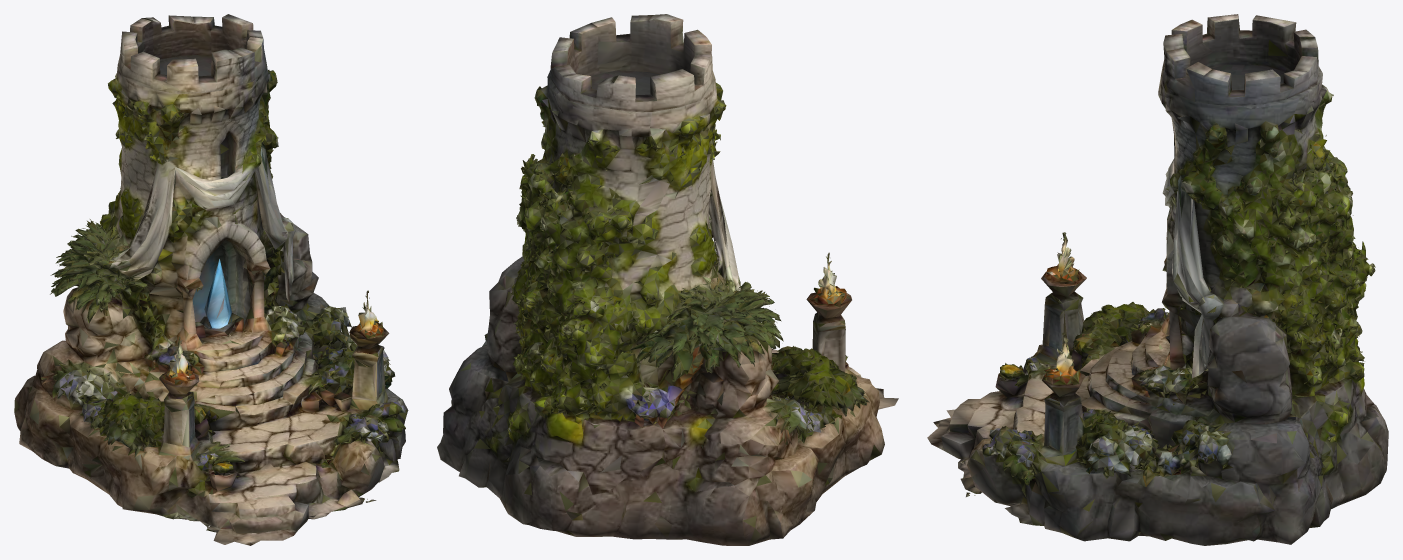
The model's file is Crystal_Tower_of_the_.glb.
3 views of the same model, side by side, from view 1: azimuth 30°, elevation 25°; view 2: azimuth 150°, elevation 25°; view 3: azimuth 270°, elevation 25° (orthographic). The views are drawn at different scales.
Parts seen in each view (by area): view 1: Crystal_Tower_of_the_; view 2: Crystal_Tower_of_the_; view 3: Crystal_Tower_of_the_.
Boxes of the visible parts, <box> form: Crystal_Tower_of_the_: <box>14,14,408,545</box>; Crystal_Tower_of_the_: <box>437,14,898,545</box>; Crystal_Tower_of_the_: <box>927,14,1388,545</box>.
Bounding box in the file's own units: 1.69 × 2 × 1.95.
Materials: 1 (1 with a texture image).
